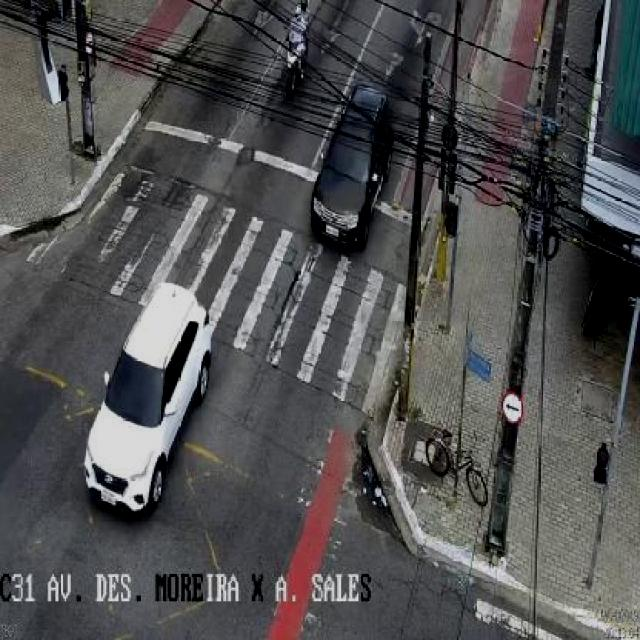Car: (72, 276, 210, 532), (293, 81, 423, 266)
Cycle: (256, 0, 321, 88)
